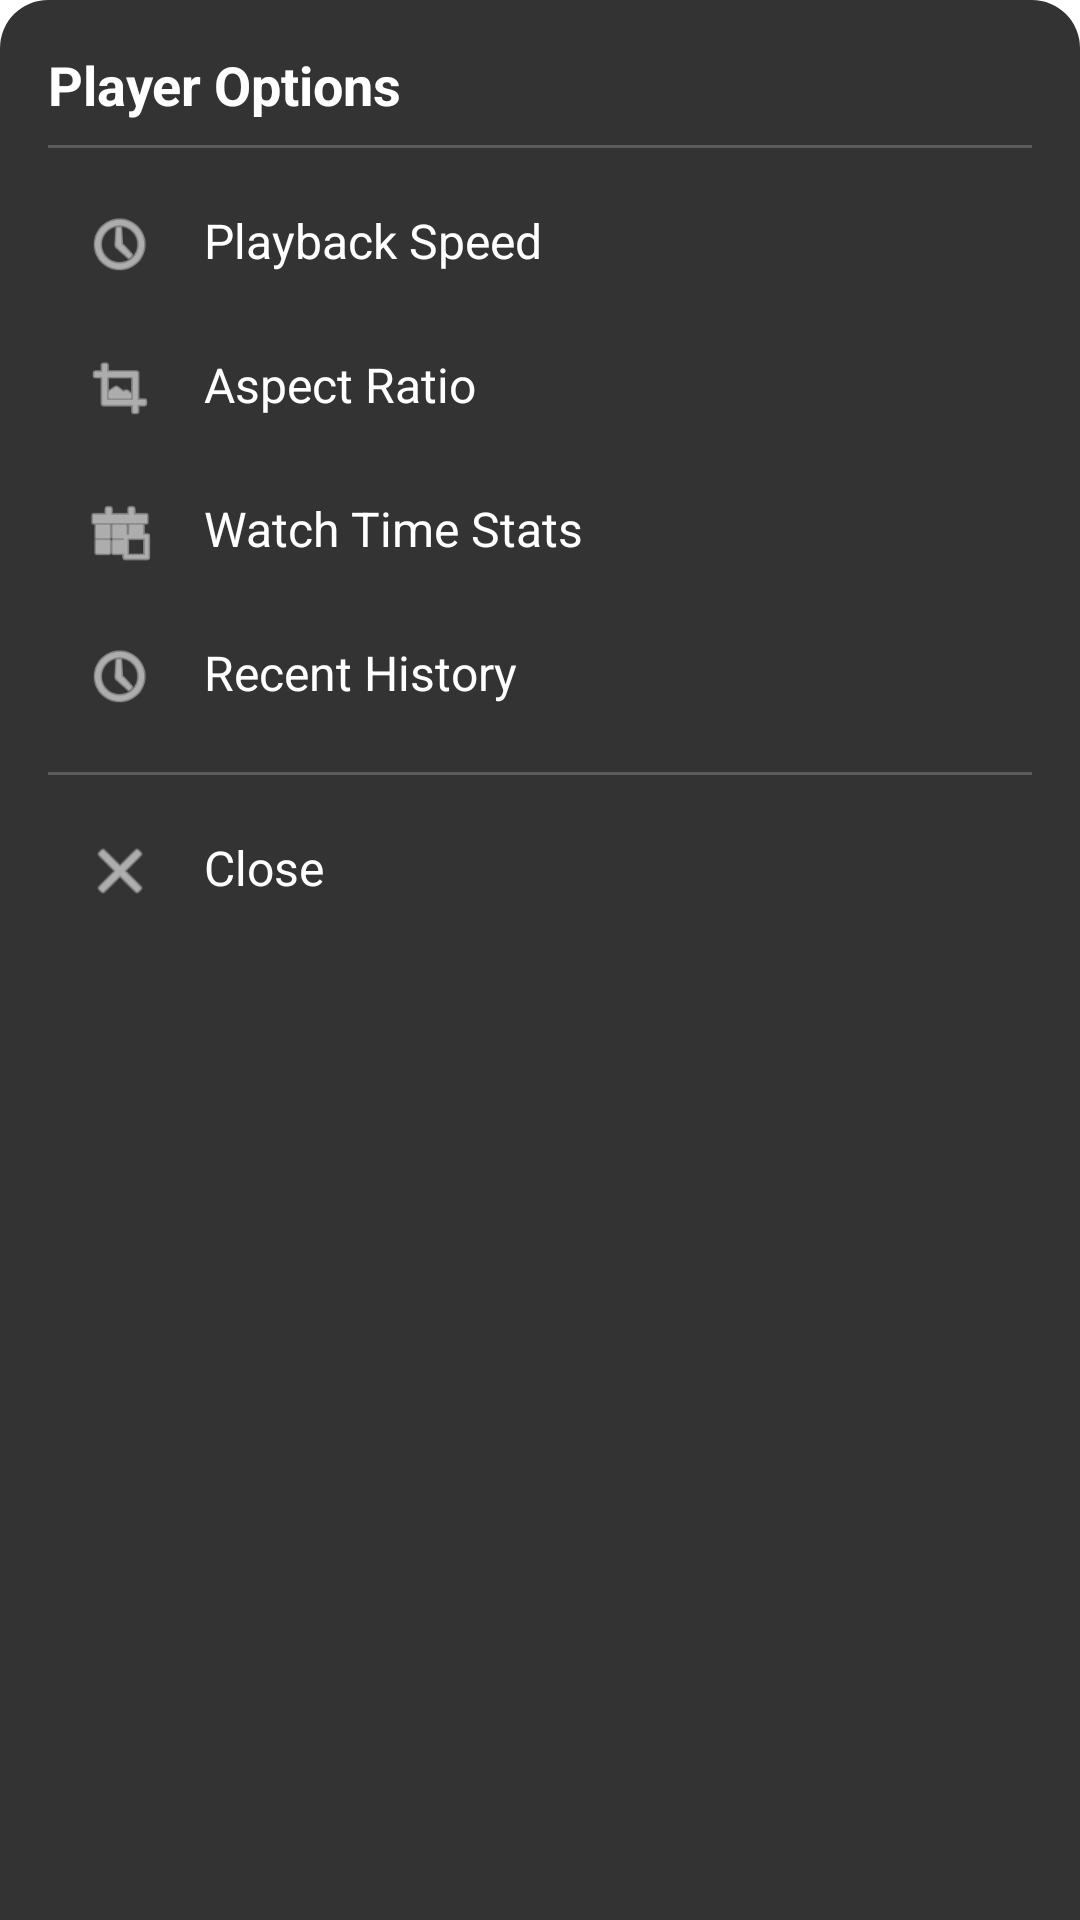

Icons on this 1080w x 1920h Android screen, each with the point to tap as (x=x, y=y):
crop: (x=120, y=388)
today: (x=120, y=533)
